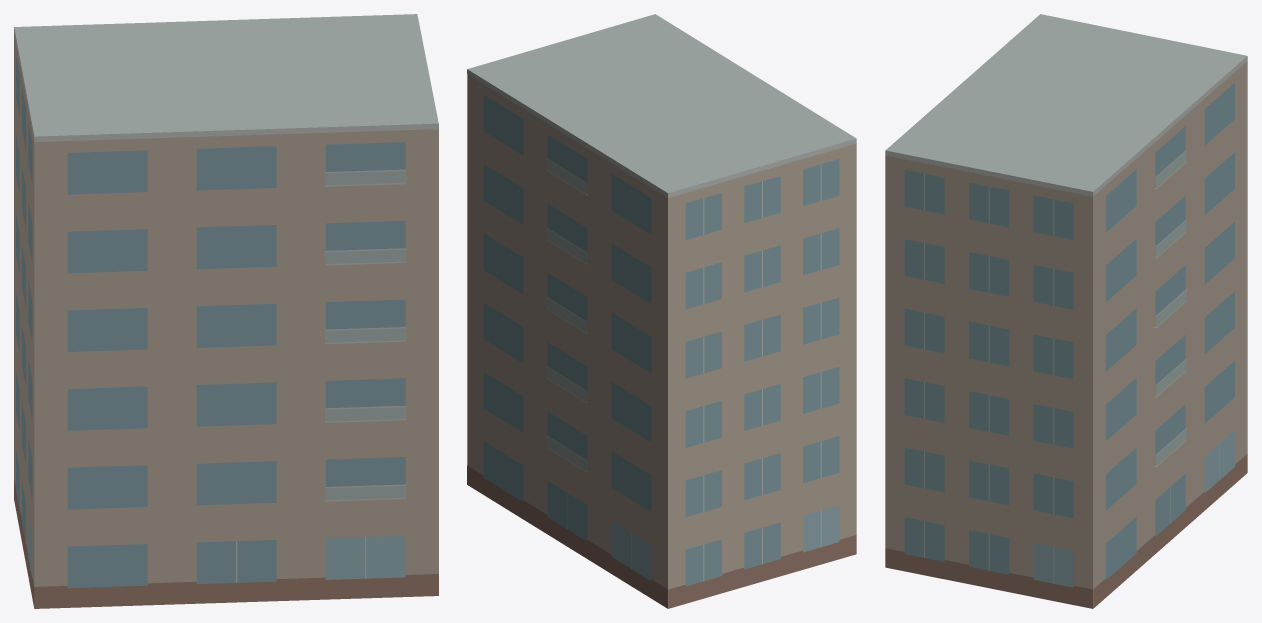
Rendered from survey-upis-32670764.glb.
The picture shows the model from 3 angles, left to right: view 1: azimuth 30°, elevation 25°; view 2: azimuth 150°, elevation 25°; view 3: azimuth 270°, elevation 25°; orthographic projection. The views are drawn at different scales.
Parts seen in each view (by area): view 1: survey-upis-32670764.tmp; view 2: survey-upis-32670764.tmp; view 3: survey-upis-32670764.tmp.
Part boxes in pixels (x1,y1,x2,y2): survey-upis-32670764.tmp: (14, 14, 438, 608); survey-upis-32670764.tmp: (467, 14, 856, 608); survey-upis-32670764.tmp: (885, 14, 1247, 608).
Bounding box in the file's own units: 18.92 × 20.68 × 16.29.
